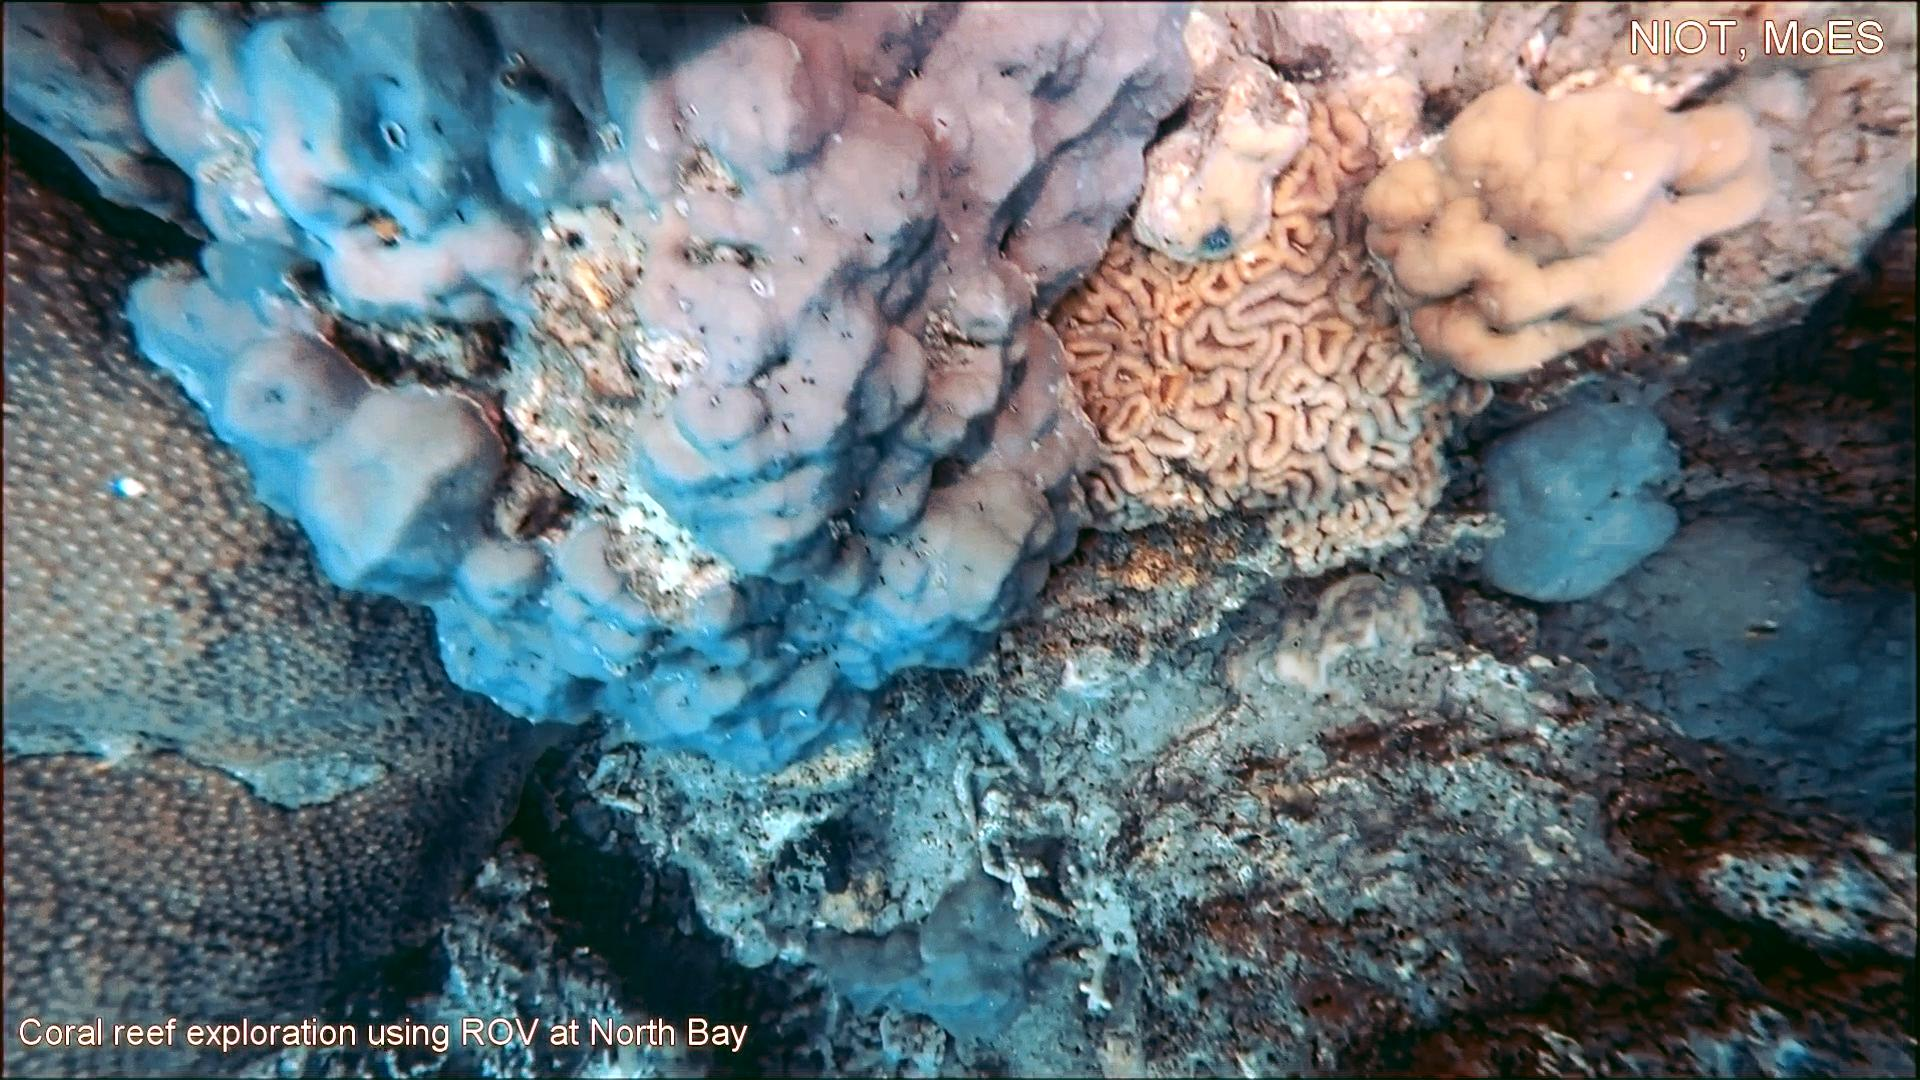Lobophyllia: (1040, 82, 1501, 587)
